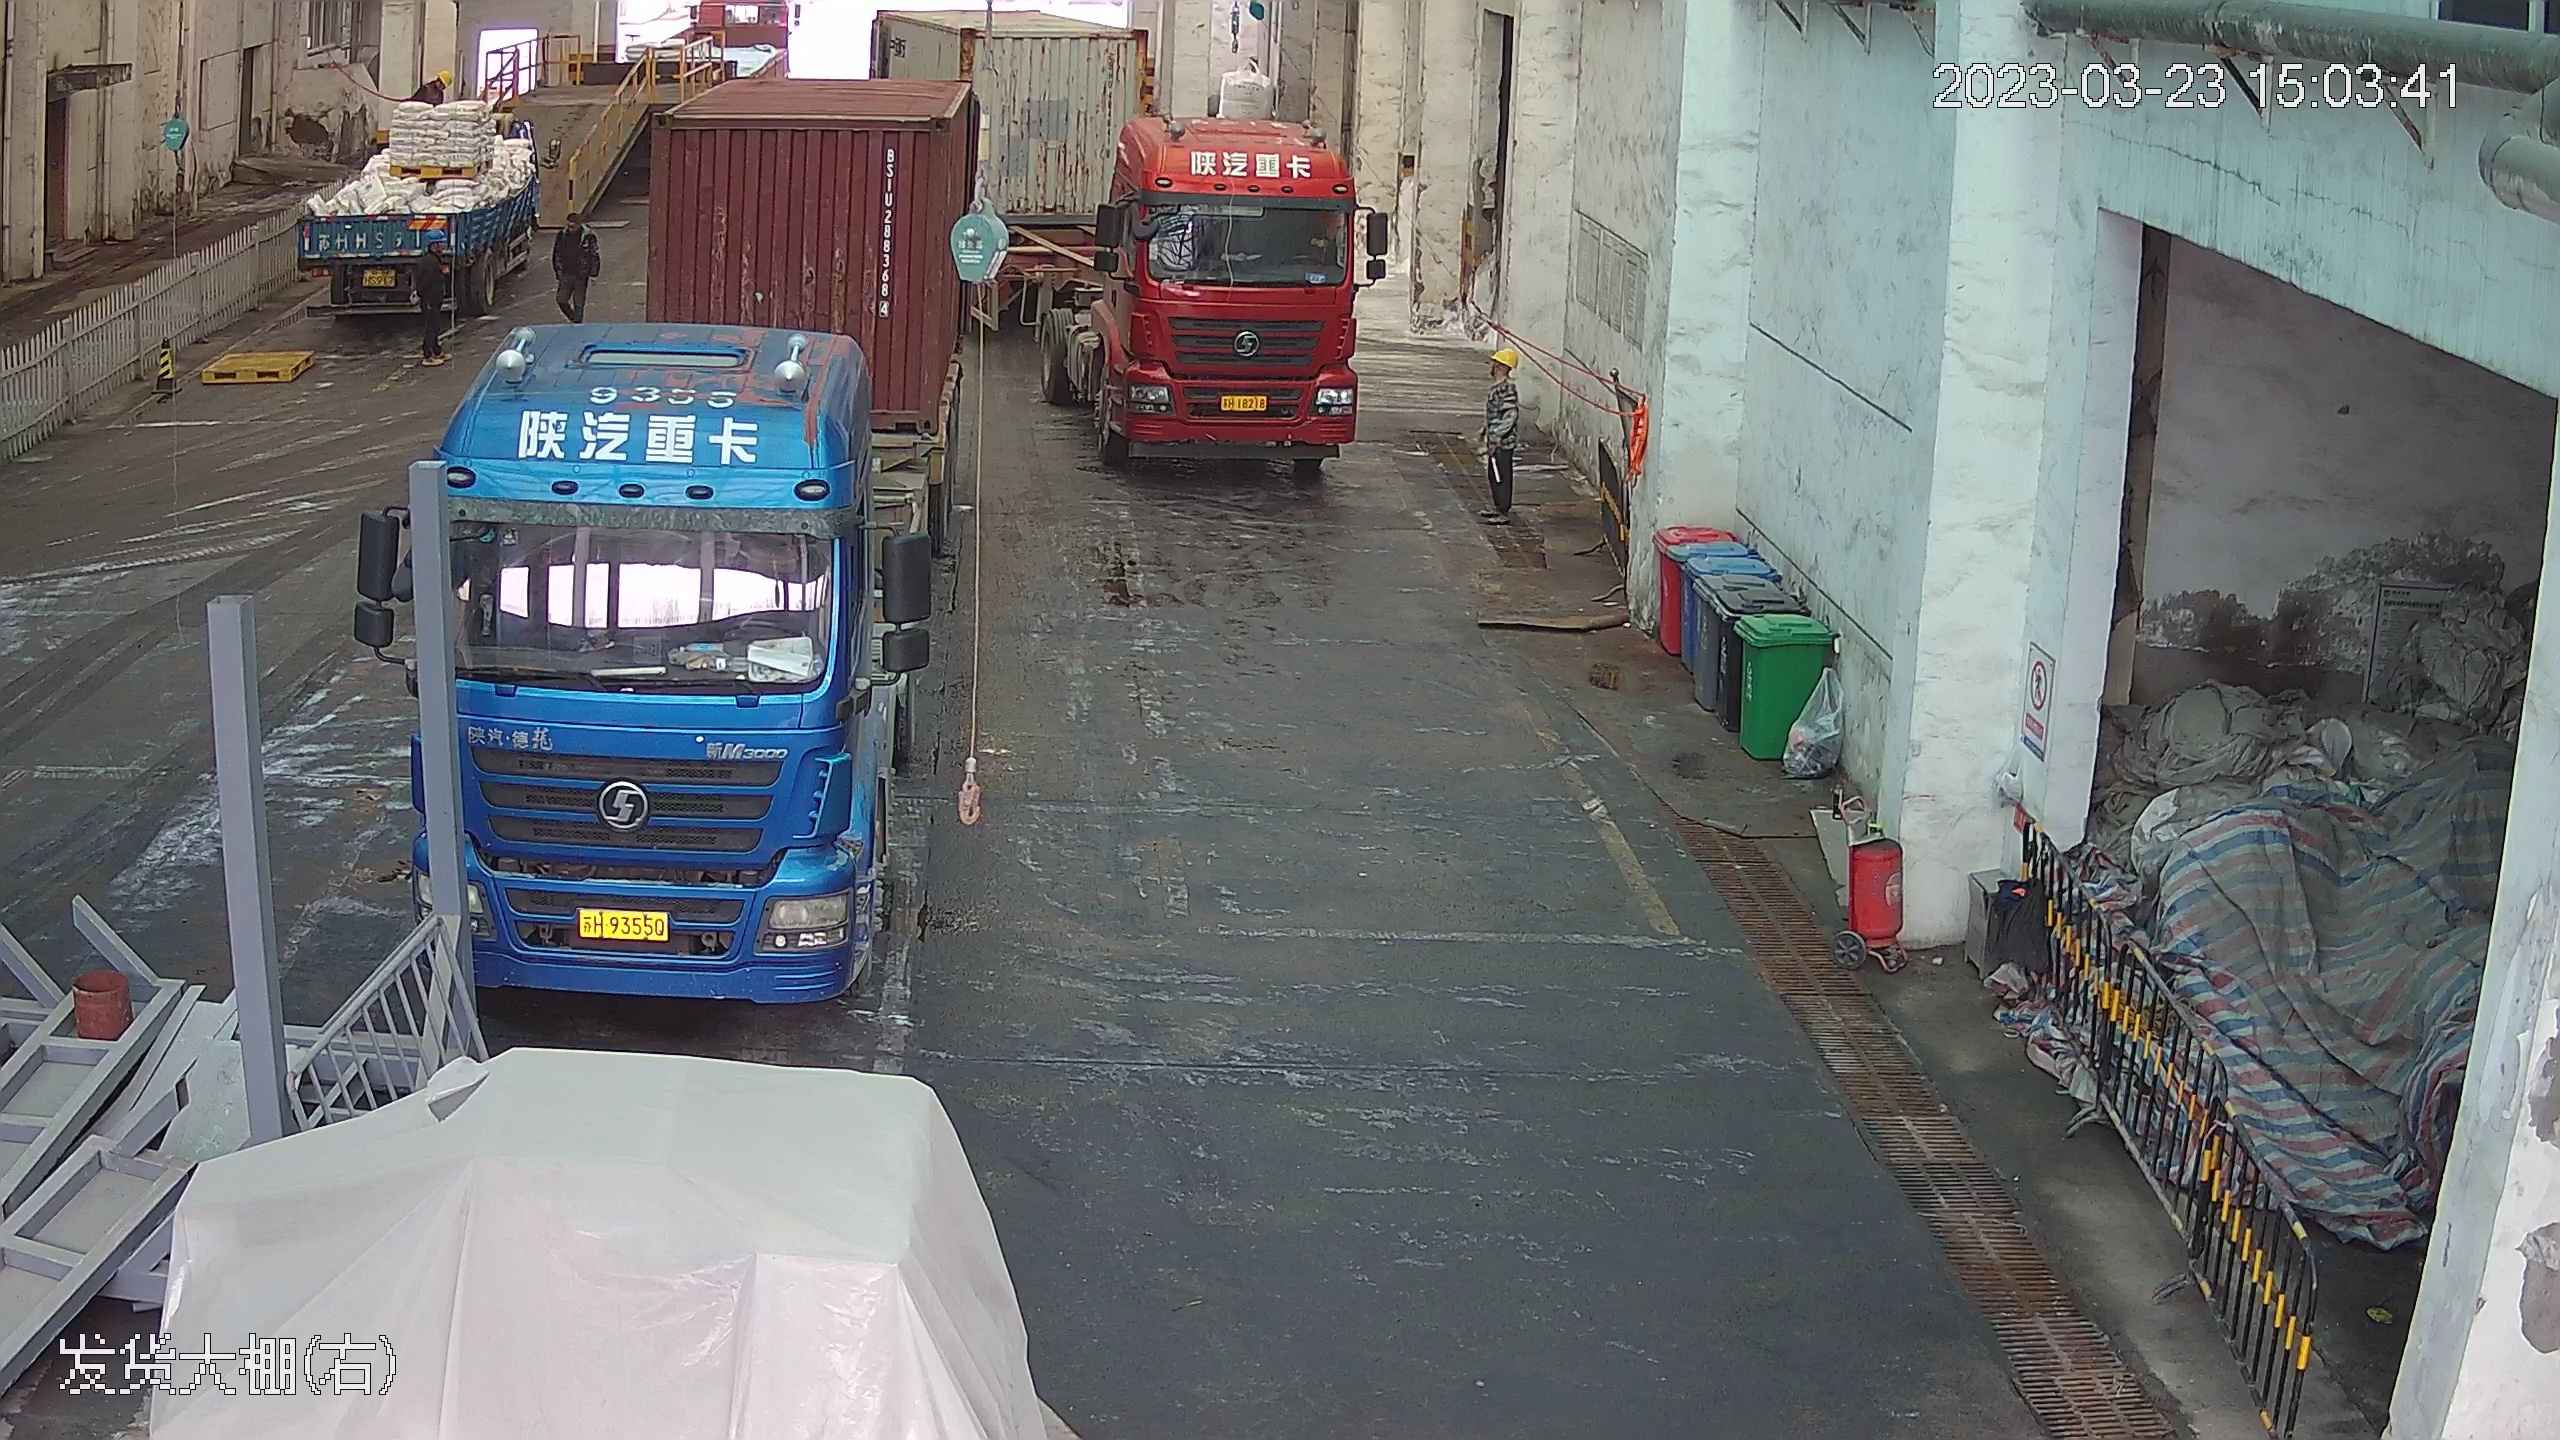head: (1484, 343, 1525, 407), (552, 207, 596, 257), (413, 227, 449, 279), (413, 68, 455, 105)
helmet: (1490, 342, 1519, 367), (422, 225, 447, 245), (437, 68, 452, 90)
people: (1479, 344, 1526, 522), (544, 196, 599, 322), (407, 222, 453, 361)
truck: (398, 6, 975, 1000), (997, 30, 1382, 469)
